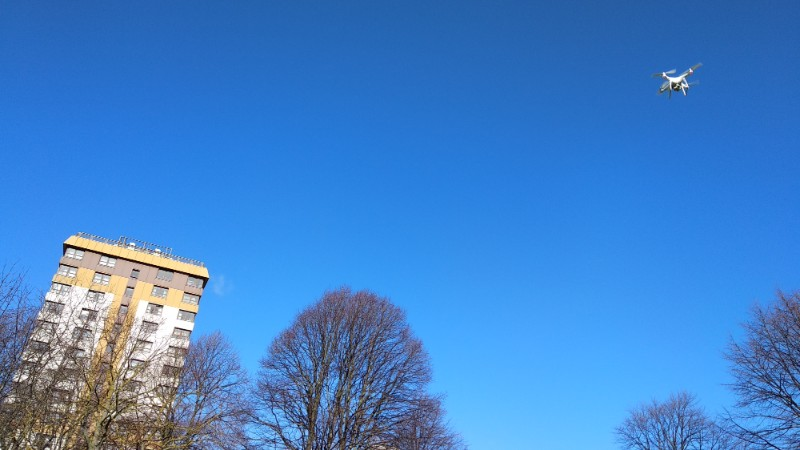drone: (654, 62, 704, 100)
